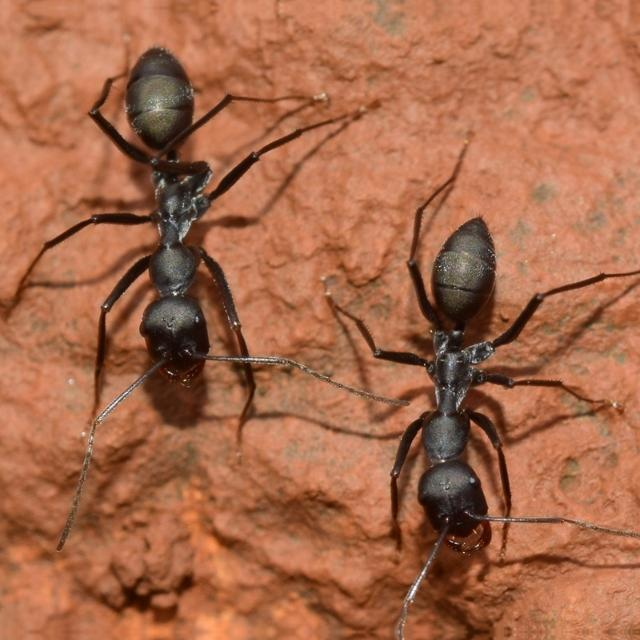Cataglyphis: (29, 16, 305, 448), (318, 174, 574, 600)
